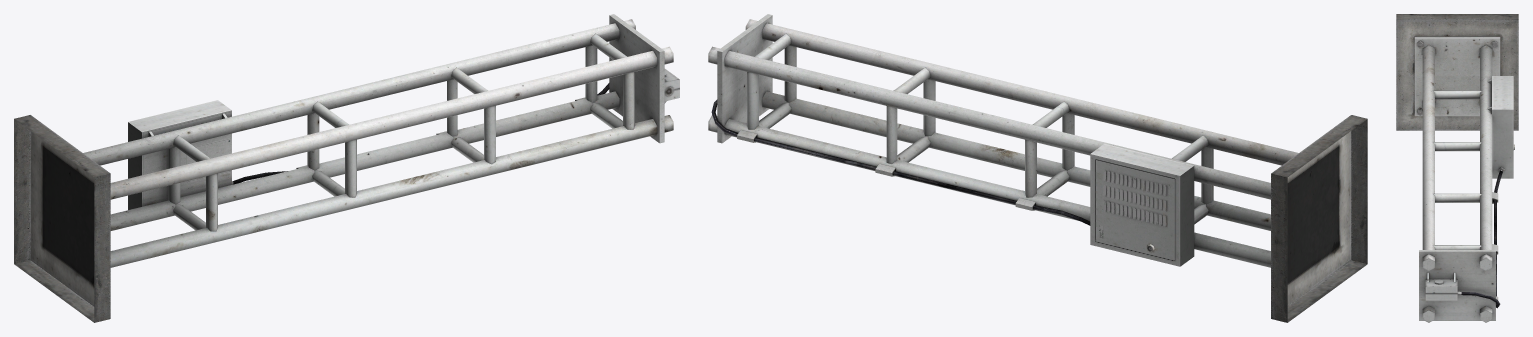
Rendered from S_ZipLineBase_01.dae.
3 renders of one model, left to right at view 1: azimuth 30°, elevation 25°; view 2: azimuth 150°, elevation 25°; view 3: azimuth 270°, elevation 25°, orthographic. The views are drawn at different scales.
Visible parts, largest first — view 1: S_ZipLineBase_01.001; view 2: S_ZipLineBase_01.001; view 3: S_ZipLineBase_01.001.
Part boxes in pixels (box(x1,y1,x2,y2)): S_ZipLineBase_01.001: box(14, 14, 679, 322); S_ZipLineBase_01.001: box(708, 14, 1367, 322); S_ZipLineBase_01.001: box(1396, 14, 1518, 322).
Size of the model in its own units: 5.57 by 1.28 by 1.28.
